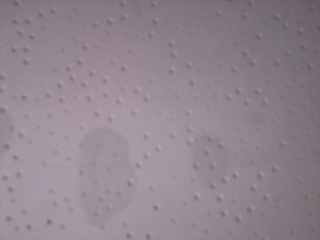Water_detected: (75, 130, 134, 206), (186, 140, 219, 180)
